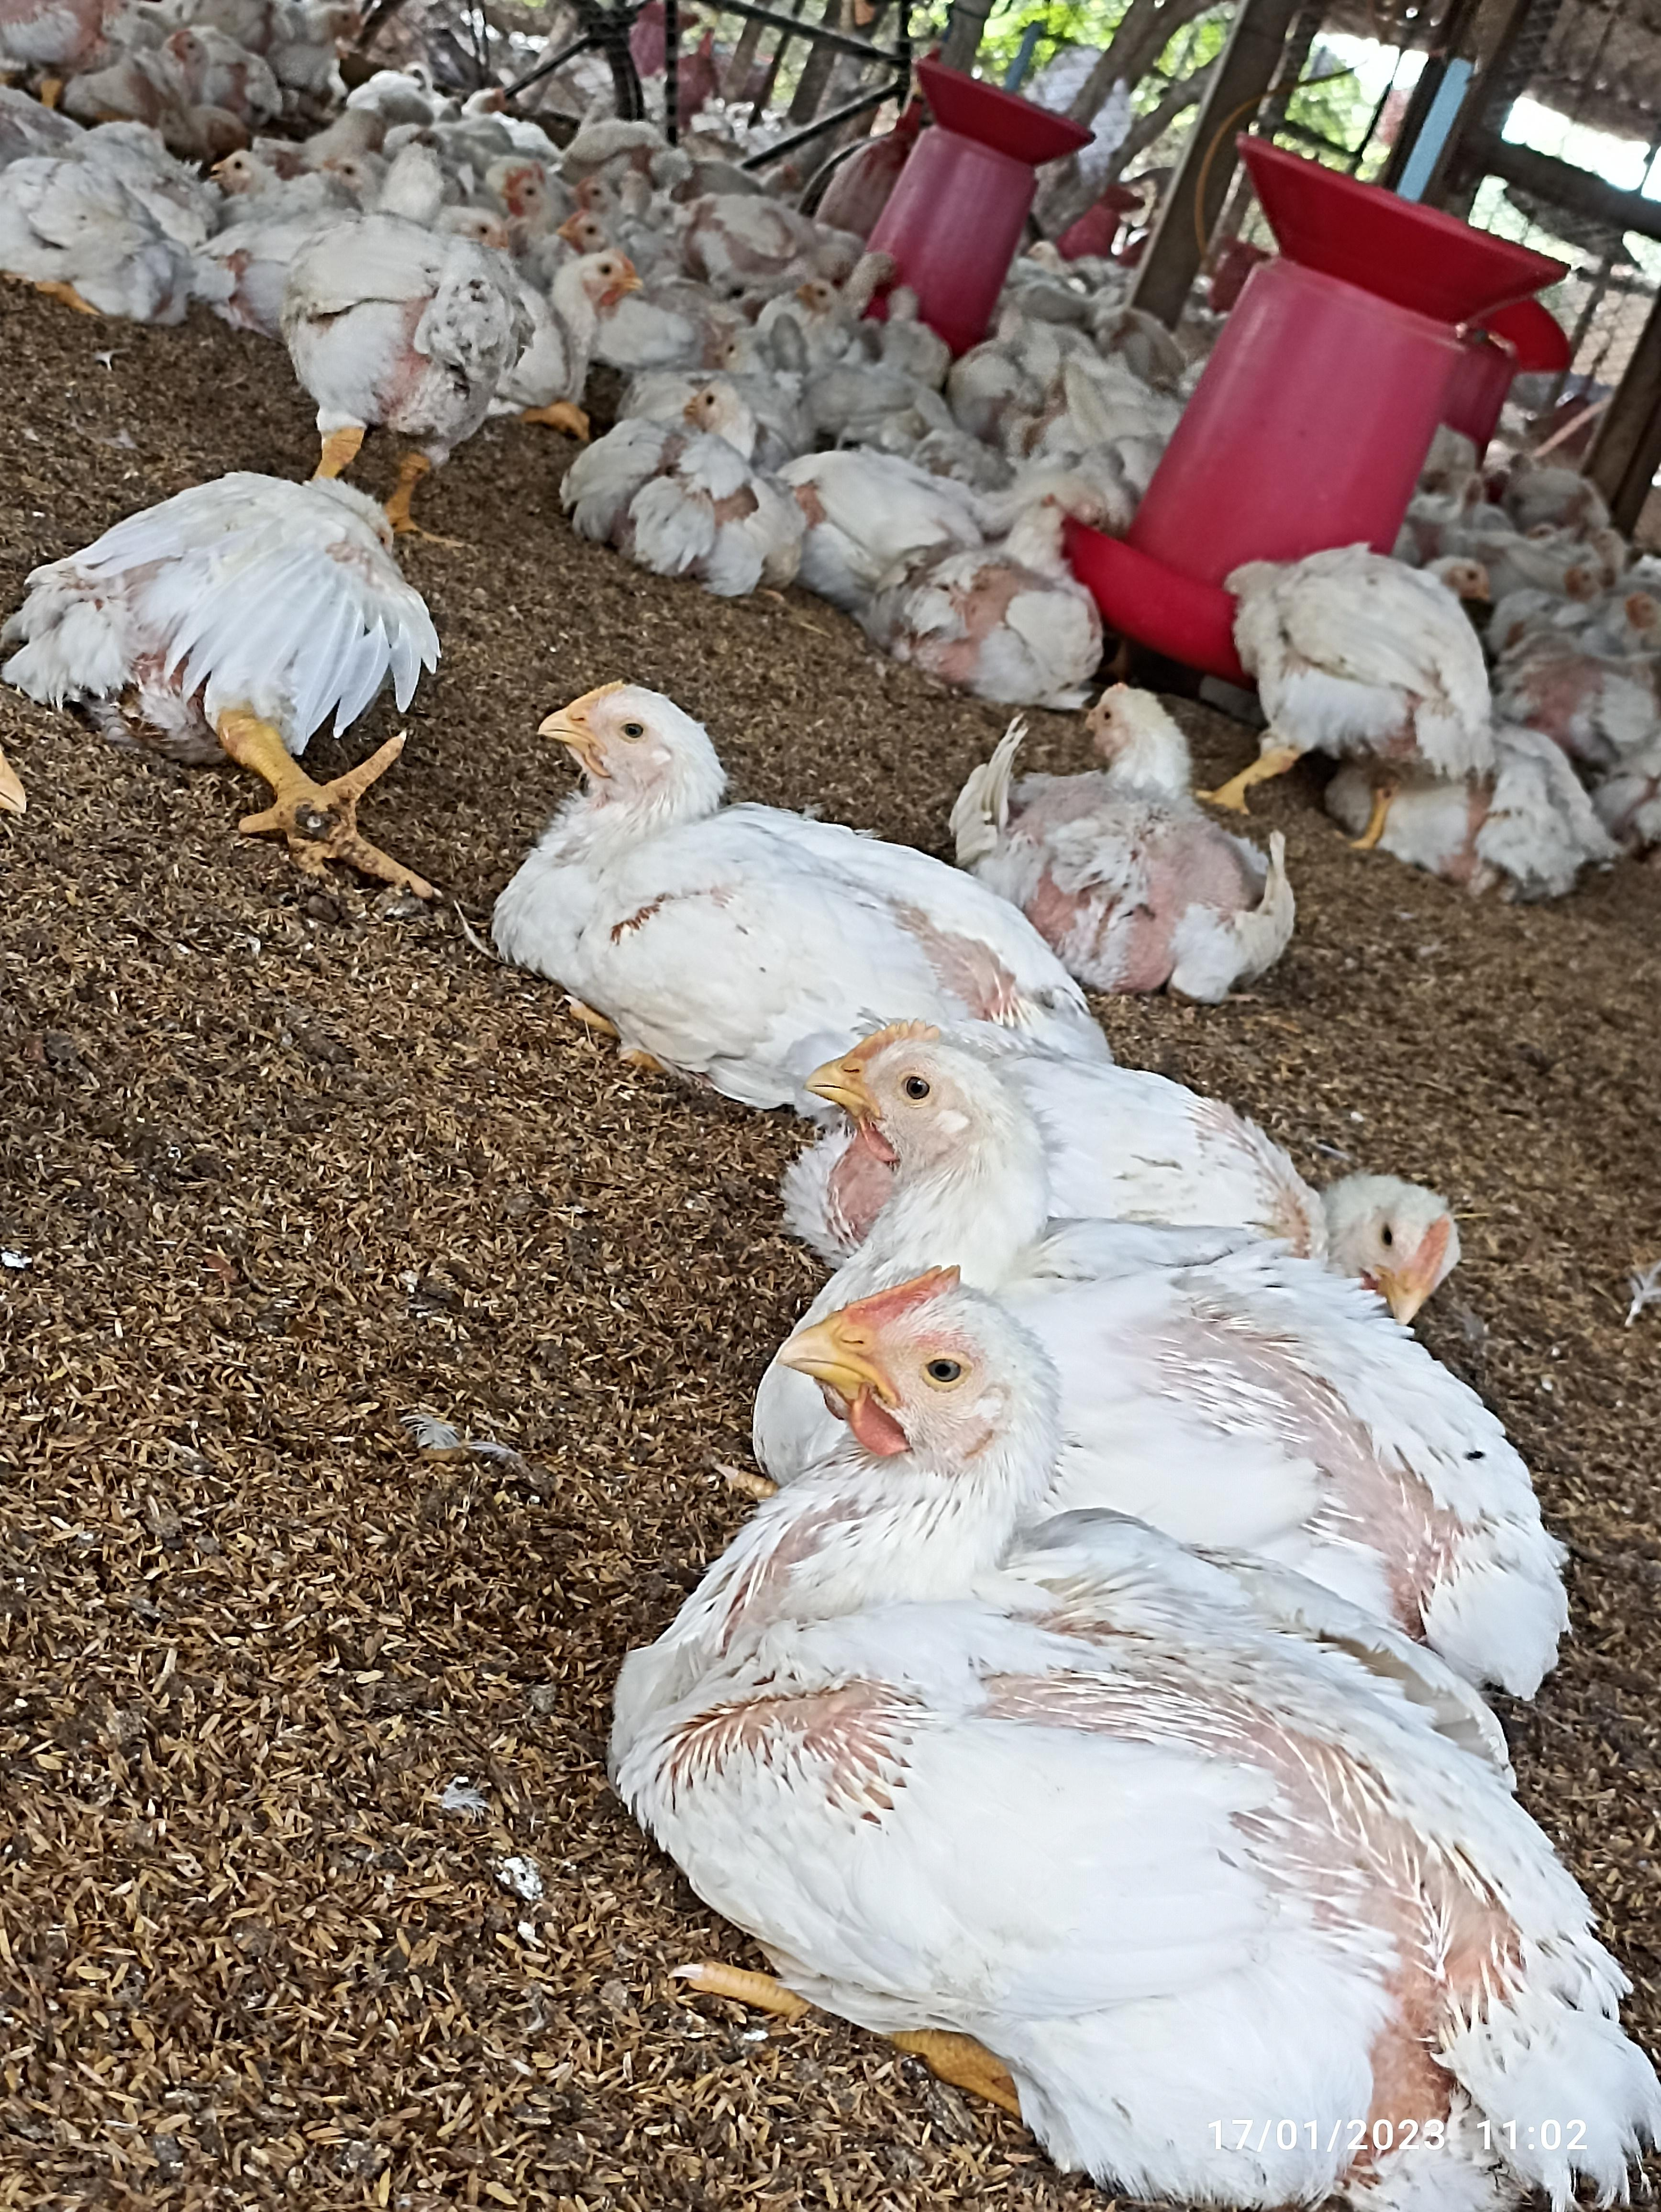Pollos: (619, 1265, 1661, 2202), (504, 672, 1082, 1038), (757, 1029, 1310, 1322), (31, 455, 431, 762), (993, 679, 1300, 987), (276, 145, 515, 427), (1244, 546, 1497, 745), (584, 384, 804, 600), (906, 492, 1101, 691)
